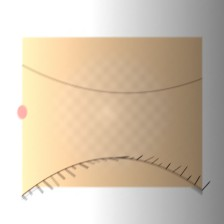pinguecula_lesion: (150, 91, 185, 119)
